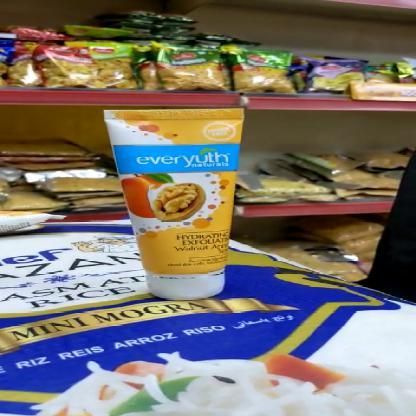EY HYD-EXF WALNT APR SCRUB AYR100G: (100, 105, 249, 298)
